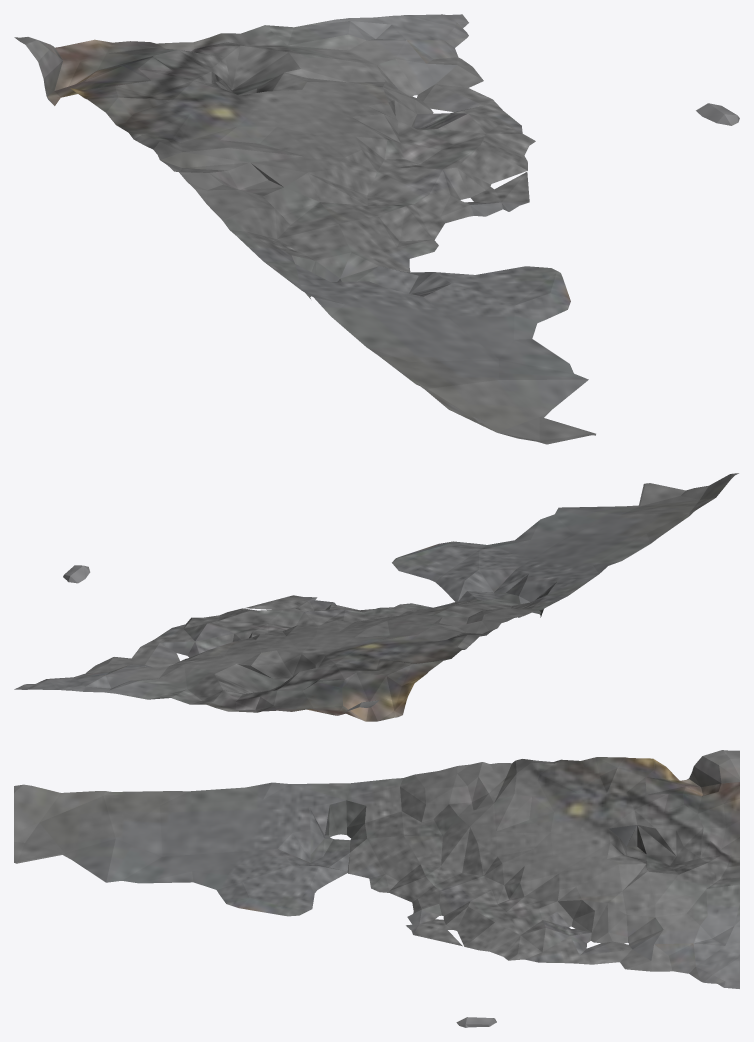
3 views of the same model, one above another, from view 1: azimuth 30°, elevation 25°; view 2: azimuth 150°, elevation 25°; view 3: azimuth 270°, elevation 25° (orthographic). The views are drawn at different scales.
Size of the model in its own units: 1.14 by 0.1738 by 1.67.
1 material, 1 textured.
